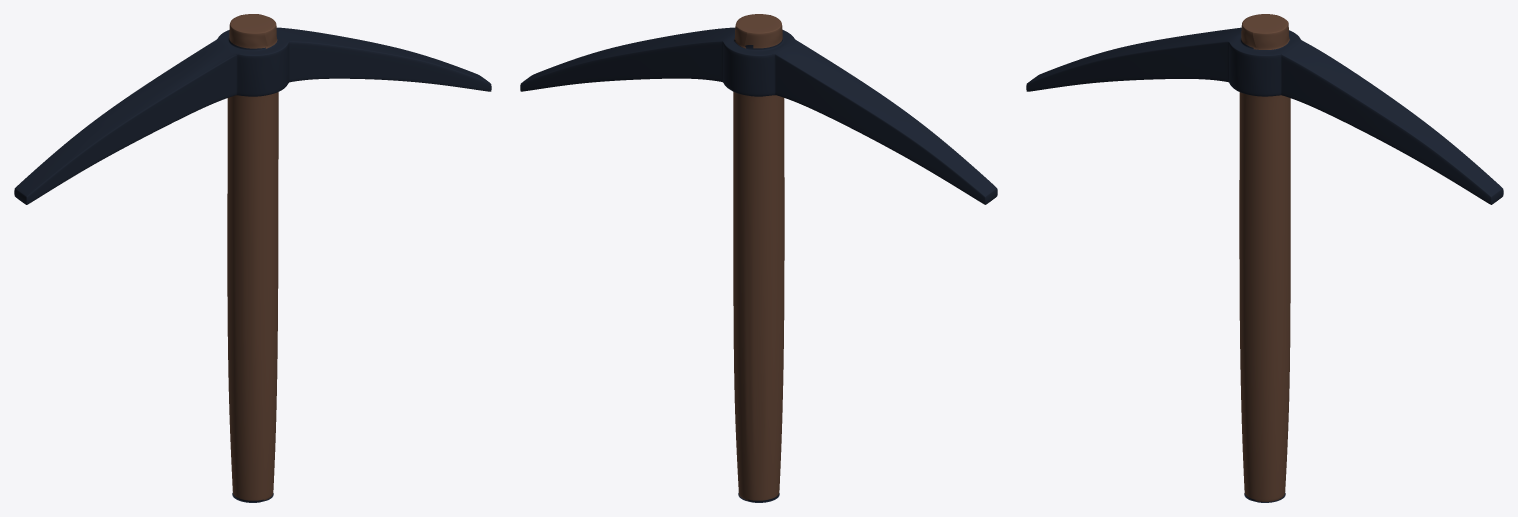
Rendered from Pickaxe_Unity.fbx.
3 views of the same model, side by side, from view 1: azimuth 30°, elevation 25°; view 2: azimuth 150°, elevation 25°; view 3: azimuth 330°, elevation 25° (orthographic).
Visible parts, largest first — view 1: Cylinder; view 2: Cylinder; view 3: Cylinder.
Boxes of the visible parts, left/top/right/bottom form: Cylinder: left=14, top=14, right=491, bottom=502; Cylinder: left=520, top=14, right=997, bottom=502; Cylinder: left=1026, top=14, right=1503, bottom=502.
Bounding box in the file's own units: 103 × 99.79 × 13.81.
